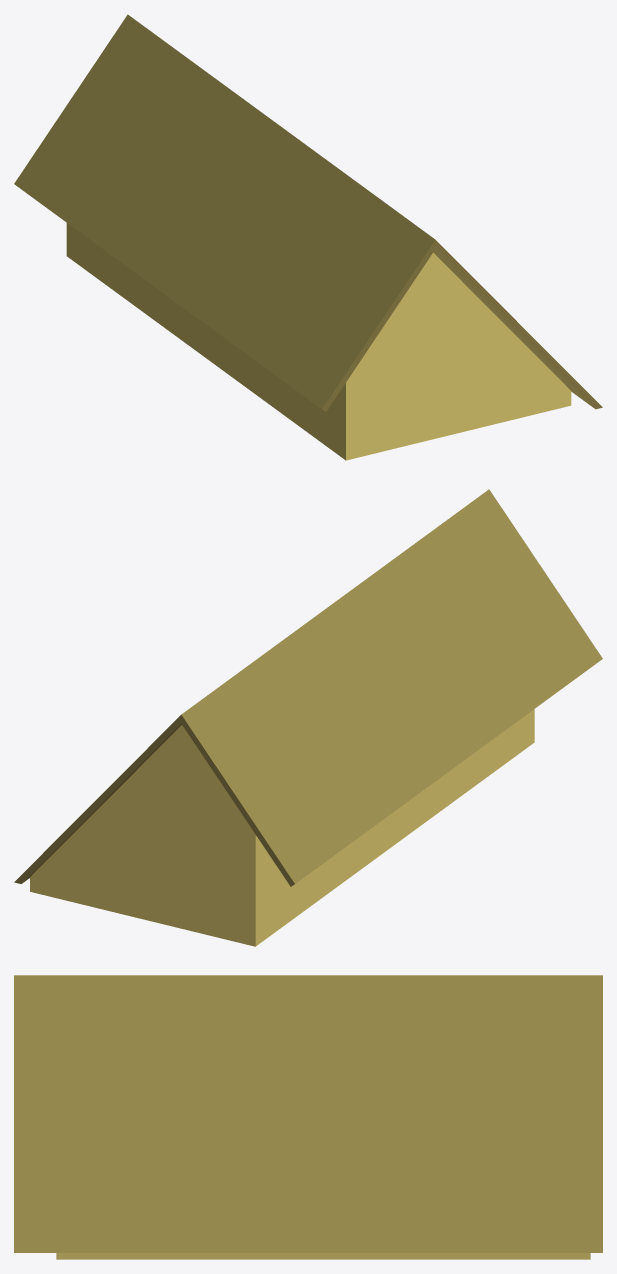
The model's file is result.glb.
3 views of the same model, one above another, from view 1: azimuth 30°, elevation 25°; view 2: azimuth 150°, elevation 25°; view 3: azimuth 270°, elevation 25° (orthographic). The views are drawn at different scales.
Parts seen in each view (by area): view 1: 05063458-8031-4aac-bdde-1d09dd31520f__undefined (×2), 23c2e09f-e302-4632-8a20-e92aec211083__undefined; view 2: 05063458-8031-4aac-bdde-1d09dd31520f__undefined (×2), 23c2e09f-e302-4632-8a20-e92aec211083__undefined; view 3: 05063458-8031-4aac-bdde-1d09dd31520f__undefined, 23c2e09f-e302-4632-8a20-e92aec211083__undefined.
Part boxes in pixels (x1=…): 05063458-8031-4aac-bdde-1d09dd31520f__undefined (×2): x1=14, y1=14, x2=602, y2=411; 23c2e09f-e302-4632-8a20-e92aec211083__undefined: x1=66, y1=223, x2=571, y2=460; 05063458-8031-4aac-bdde-1d09dd31520f__undefined (×2): x1=14, y1=489, x2=602, y2=886; 23c2e09f-e302-4632-8a20-e92aec211083__undefined: x1=30, y1=709, x2=534, y2=946; 05063458-8031-4aac-bdde-1d09dd31520f__undefined: x1=14, y1=975, x2=602, y2=1252; 23c2e09f-e302-4632-8a20-e92aec211083__undefined: x1=56, y1=1253, x2=590, y2=1259.
Bounding box in the file's own units: 1244 × 933 × 2360.
